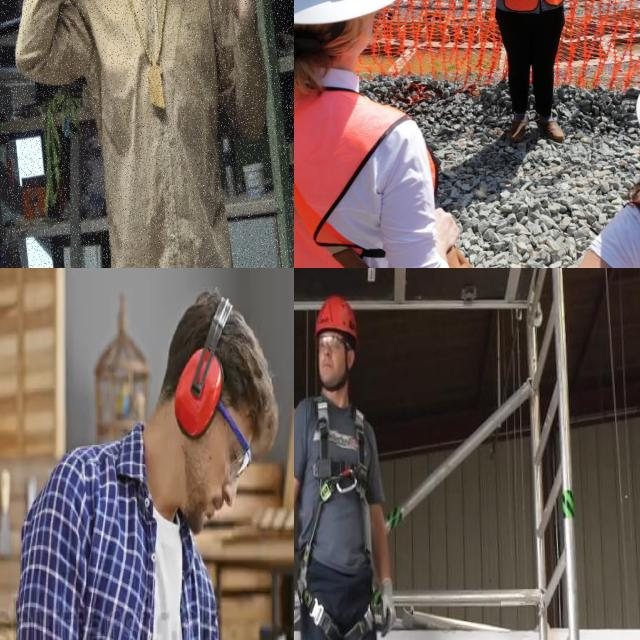Ear-protection: (164, 335, 224, 449)
Harness: (303, 395, 385, 562)
glasses: (211, 402, 255, 478)
person: (5, 268, 258, 640), (294, 0, 457, 268), (457, 0, 618, 148)
shoes: (535, 109, 566, 145), (501, 113, 532, 142)
vest: (294, 75, 441, 268)
